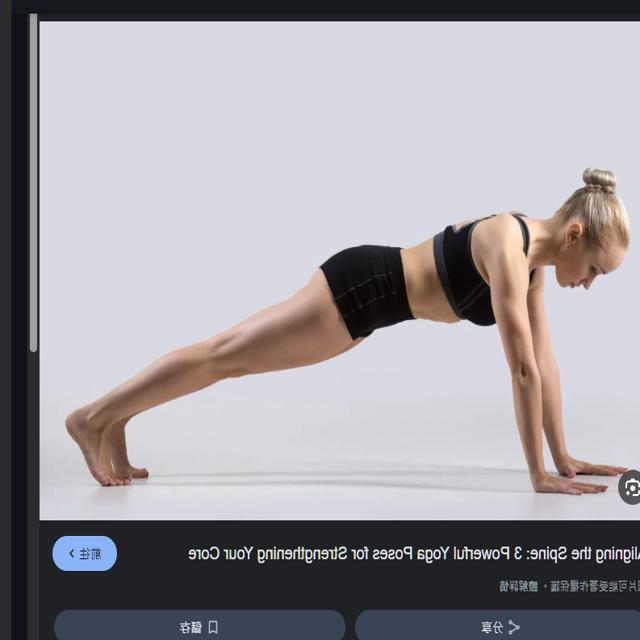Plank_Pose: (50, 161, 634, 502)
